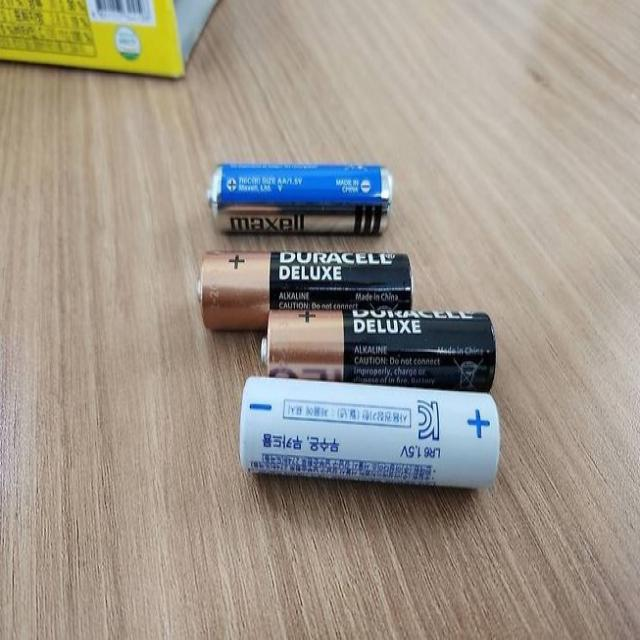battery: (237, 375, 499, 492), (198, 244, 414, 337), (261, 306, 502, 386), (204, 153, 397, 237)
